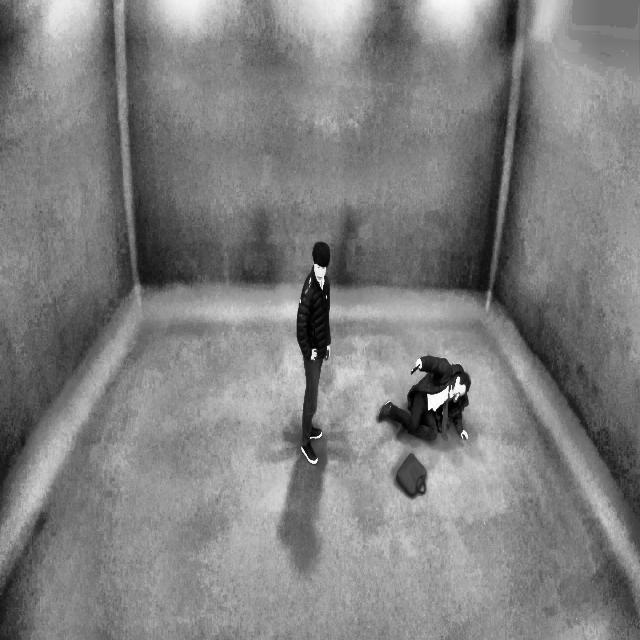assult: (293, 232, 481, 459), (376, 351, 474, 447)
